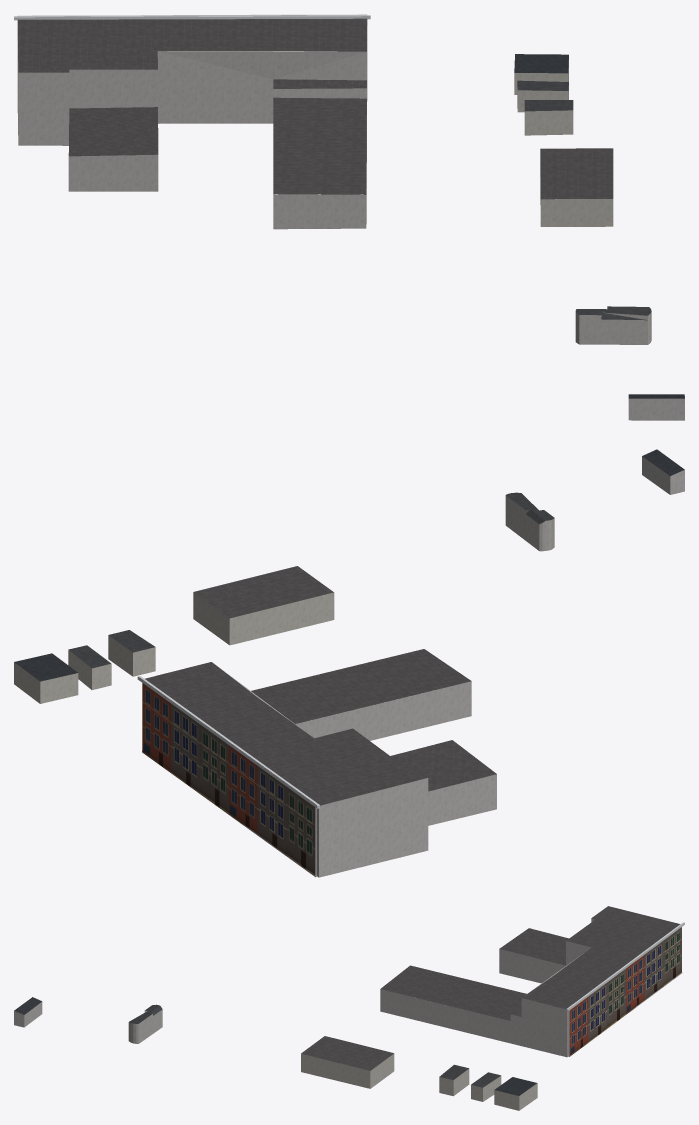
3 views of the same model, one above another, from view 1: azimuth 30°, elevation 25°; view 2: azimuth 150°, elevation 25°; view 3: azimuth 270°, elevation 25° (orthographic). The views are drawn at different scales.
Visible parts, largest first — view 1: bldg_6003919221_roof, bldg_6003919221, bldg_6003919235_roof, bldg_6000114580, bldg_6003919235, bldg_6003919221_facade0, bldg_6003919231, bldg_6006774092, bldg_6003919239_roof, bldg_6000114580_roof, bldg_6006778572; view 2: bldg_6003919221_roof, bldg_6003919221, bldg_6003919221_facade0, bldg_6003919235, bldg_6003919235_roof, bldg_6000114580, bldg_6003919239, bldg_6006774092, bldg_6003919239_roof, bldg_6006778572, bldg_6003919231; view 3: bldg_6003919221_roof, bldg_6003919221, bldg_6003919221_facade0, bldg_6003919235, bldg_6003919235_roof, bldg_6000114580, bldg_6003919239, bldg_6006774092, bldg_6003919239_roof, bldg_6006778572, bldg_6003919231.
Part boxes in pixels (x1=…): bldg_6003919221_roof: x1=17, y1=18, x2=367, y2=194; bldg_6003919221: x1=17, y1=19, x2=367, y2=229; bldg_6003919235_roof: x1=540, y1=148, x2=613, y2=199; bldg_6000114580: x1=575, y1=311, x2=651, y2=344; bldg_6003919235: x1=540, y1=177, x2=613, y2=226; bldg_6003919221_facade0: x1=14, y1=14, x2=370, y2=20; bldg_6003919231: x1=628, y1=398, x2=684, y2=420; bldg_6006774092: x1=524, y1=110, x2=573, y2=135; bldg_6003919239_roof: x1=514, y1=54, x2=568, y2=73; bldg_6000114580_roof: x1=575, y1=306, x2=651, y2=320; bldg_6006778572: x1=517, y1=86, x2=568, y2=112; bldg_6003919221_roof: x1=145, y1=649, x2=496, y2=805; bldg_6003919221: x1=215, y1=664, x2=496, y2=877; bldg_6003919221_facade0: x1=137, y1=676, x2=319, y2=877; bldg_6003919235: x1=193, y1=592, x2=334, y2=645; bldg_6003919235_roof: x1=194, y1=566, x2=333, y2=618; bldg_6000114580: x1=505, y1=495, x2=554, y2=551; bldg_6003919239: x1=14, y1=662, x2=78, y2=703; bldg_6006774092: x1=108, y1=635, x2=155, y2=676; bldg_6003919239_roof: x1=14, y1=653, x2=77, y2=681; bldg_6006778572: x1=68, y1=650, x2=111, y2=689; bldg_6003919231: x1=642, y1=456, x2=684, y2=494; bldg_6003919221_roof: x1=380, y1=906, x2=680, y2=1020; bldg_6003919221: x1=380, y1=918, x2=595, y2=1057; bldg_6003919221_facade0: x1=566, y1=922, x2=684, y2=1056; bldg_6003919235: x1=301, y1=1053, x2=394, y2=1088; bldg_6003919235_roof: x1=301, y1=1036, x2=393, y2=1070; bldg_6000114580: x1=128, y1=1009, x2=162, y2=1043; bldg_6003919239: x1=494, y1=1083, x2=537, y2=1110; bldg_6006774092: x1=439, y1=1068, x2=469, y2=1096; bldg_6003919239_roof: x1=494, y1=1077, x2=536, y2=1095; bldg_6006778572: x1=471, y1=1076, x2=501, y2=1101; bldg_6003919231: x1=14, y1=1002, x2=42, y2=1027.
Bounding box in the file's own units: 62.99 × 9.13 × 112.
9 materials, 7 textured.
